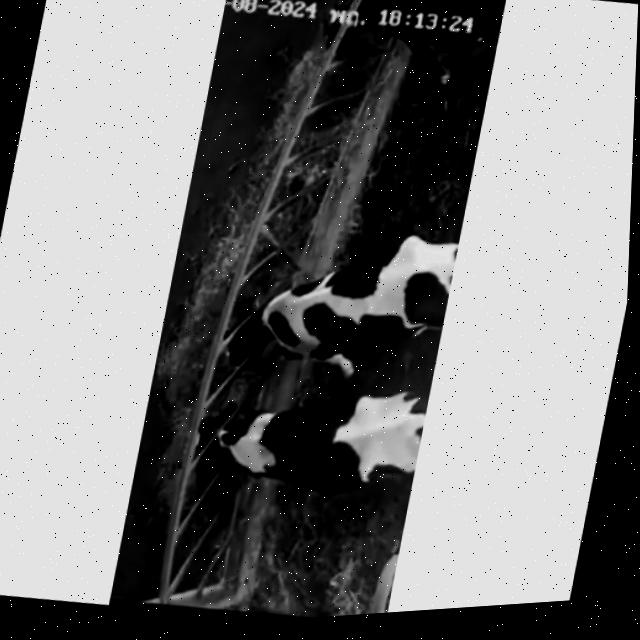eat: (171, 252, 353, 376), (153, 382, 332, 500), (276, 0, 472, 95)
